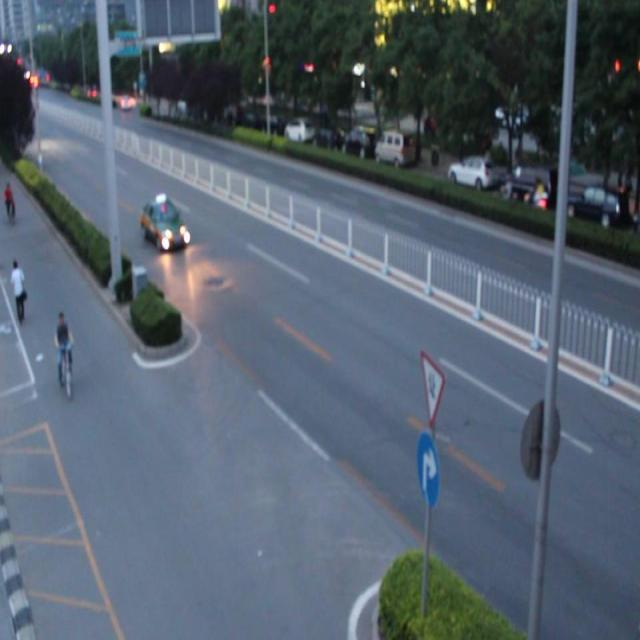car: (141, 197, 188, 252)
